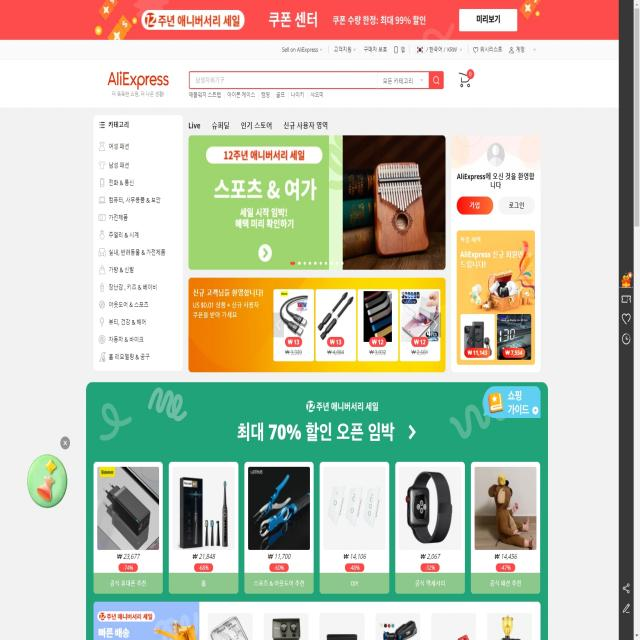menu-bar: (273, 39, 536, 60)
search: (188, 68, 446, 91)
